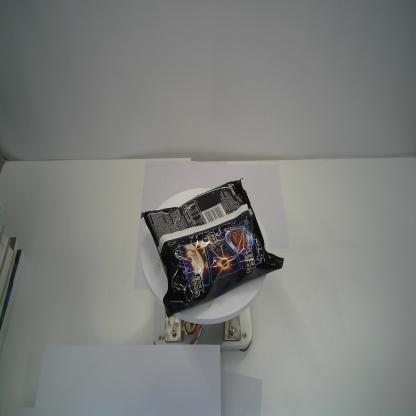Instant Noodles: (139, 177, 286, 320)
